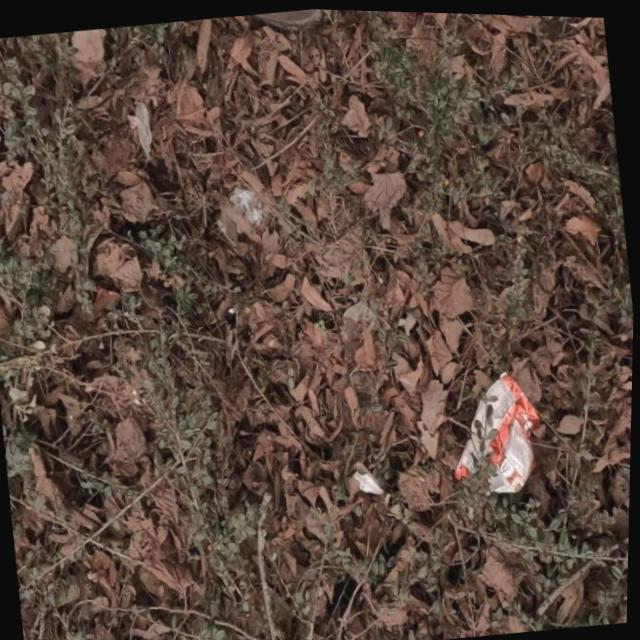Plastic: (442, 361, 550, 497)
